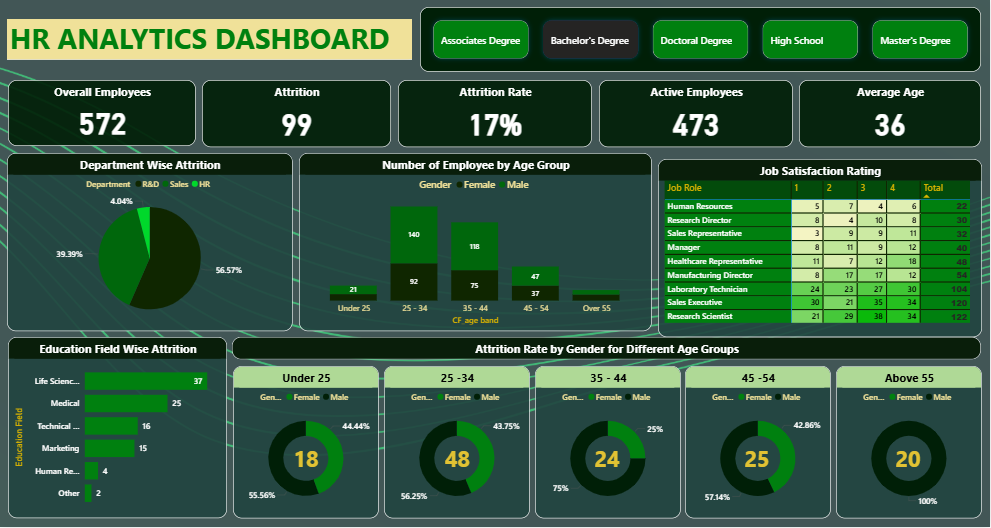

This screenshot's page, from the dashboard's own definition file:
{"tool":"powerbi","page":{"name":"Page 1","canvas":[1650,880],"ordinal":0},"visuals":[{"type":"card","title":"Overall Employees","fields":{"Values":["Sum(HR data.Employee Count)"]},"box":[13.3,135,313.3,110],"z":0},{"type":"card","title":"Attrition","fields":{"Values":["Sum(HR data.Attrition Count)"]},"box":[336.7,135,315,111.7],"z":1000},{"type":"card","title":"Attrition Rate","fields":{"Values":["HR data.Attrition Rate"]},"box":[663.3,135,323.3,111.7],"z":2000},{"type":"card","title":"Active Employees","fields":{"Values":["HR data.Active Employees"]},"box":[999,135,323.3,111.7],"z":3000},{"type":"card","title":"Average Age","fields":{"Values":["Avg(HR data.Age)"]},"box":[1331.7,135,303.3,111.7],"z":4000},{"type":"pieChart","title":"Department Wise Attrition","fields":{"Y":["Sum(HR data.Attrition Count)"],"Category":["HR data.Department"]},"box":[11.7,257.1,475.7,297],"z":5000},{"type":"columnChart","title":"Number of Employee by Age Group","fields":{"Category":["HR data.CF_age band"],"Y":["Sum(HR data.Employee Count)"],"Series":["HR data.Gender"]},"box":[498.3,256.7,588.3,297],"z":6000},{"type":"pivotTable","title":"Job Satisfaction Rating","fields":{"Rows":["HR data.Job Role"],"Columns":["HR data.Job Satisfaction"],"Values":["Sum(HR data.Employee Count)"]},"box":[1096.7,266.7,540,296.7],"z":7000},{"type":"barChart","title":" Education Field Wise Attrition ","fields":{"Category":["HR data.Education Field"],"Y":["Sum(HR data.Attrition Count)"]},"box":[13.3,563.3,365,301.7],"z":8000},{"type":"donutChart","title":"25 -34","fields":{"Category":["HR data.Gender"],"Y":["Sum(HR data.Attrition Count)"],"Series":["HR data.CF_age band"]},"box":[640.7,611.2,242.9,254.3],"z":9000},{"type":"textbox","title":"Attrition Rate by Gender for Different Age Groups","box":[386.7,563.3,1248.3,36.7],"z":10000},{"type":"donutChart","title":"35 - 44","fields":{"Category":["HR data.Gender"],"Y":["Sum(HR data.Attrition Count)"],"Series":["HR data.CF_age band"]},"box":[891.7,611.2,242.9,254.3],"z":11000},{"type":"donutChart","title":"45 -54","fields":{"Category":["HR data.Gender"],"Y":["Sum(HR data.Attrition Count)"],"Series":["HR data.CF_age band"]},"box":[1141.7,611.2,242.9,254.3],"z":12000},{"type":"donutChart","title":"Above 55","fields":{"Category":["HR data.Gender"],"Y":["Sum(HR data.Attrition Count)"],"Series":["HR data.CF_age band"]},"box":[1393.1,611.2,242.9,254.3],"z":13000},{"type":"donutChart","title":"Under 25","fields":{"Category":["HR data.Gender"],"Y":["Sum(HR data.Attrition Count)"],"Series":["HR data.CF_age band"]},"box":[388.8,611.2,242.9,254.3],"z":14000},{"type":"card","fields":{"Values":["Sum(HR data.Attrition Count)"]},"box":[474.5,725.5,70,82.9],"z":15000},{"type":"card","fields":{"Values":["Sum(HR data.Attrition Count)"]},"box":[1478.8,725.5,70,82.9],"z":16000},{"type":"card","fields":{"Values":["Sum(HR data.Attrition Count)"]},"box":[1227.4,725.5,70,82.9],"z":17000},{"type":"card","fields":{"Values":["Sum(HR data.Attrition Count)"]},"box":[977.4,725.5,70,82.9],"z":18000},{"type":"card","fields":{"Values":["Sum(HR data.Attrition Count)"]},"box":[714.5,719.8,94.3,92.9],"z":19000},{"type":"advancedSlicerVisual","fields":{"Values":["HR data.Education"]},"box":[700,13.3,935,108.3],"z":20000},{"type":"textbox","title":"HR ANALYTICS DASHBOARD","box":[11.7,33.3,675,68.3],"z":21000}]}

Visuals, with their boxes in screenshot pixels (x1, y1, x2, y2), scaled from the page's 1650x880 canvas onto the 991x528 screenshot:
"Overall Employees" card: box(8, 81, 196, 147)
"Attrition" card: box(202, 81, 391, 148)
"Attrition Rate" card: box(398, 81, 593, 148)
"Active Employees" card: box(600, 81, 794, 148)
"Average Age" card: box(800, 81, 982, 148)
"Department Wise Attrition" pieChart: box(7, 154, 293, 332)
"Number of Employee by Age Group" columnChart: box(299, 154, 653, 332)
"Job Satisfaction Rating" pivotTable: box(659, 160, 983, 338)
" Education Field Wise Attrition " barChart: box(8, 338, 227, 519)
"25 -34" donutChart: box(385, 367, 531, 519)
"Attrition Rate by Gender for Different Age Groups" textbox: box(232, 338, 982, 360)
"35 - 44" donutChart: box(536, 367, 681, 519)
"45 -54" donutChart: box(686, 367, 832, 519)
"Above 55" donutChart: box(837, 367, 983, 519)
"Under 25" donutChart: box(234, 367, 379, 519)
card - Sum(HR data.Attrition Count): box(285, 435, 327, 485)
card - Sum(HR data.Attrition Count): box(888, 435, 930, 485)
card - Sum(HR data.Attrition Count): box(737, 435, 779, 485)
card - Sum(HR data.Attrition Count): box(587, 435, 629, 485)
card - Sum(HR data.Attrition Count): box(429, 432, 486, 488)
advancedSlicerVisual - HR data.Education: box(420, 8, 982, 73)
"HR ANALYTICS DASHBOARD" textbox: box(7, 20, 412, 61)
